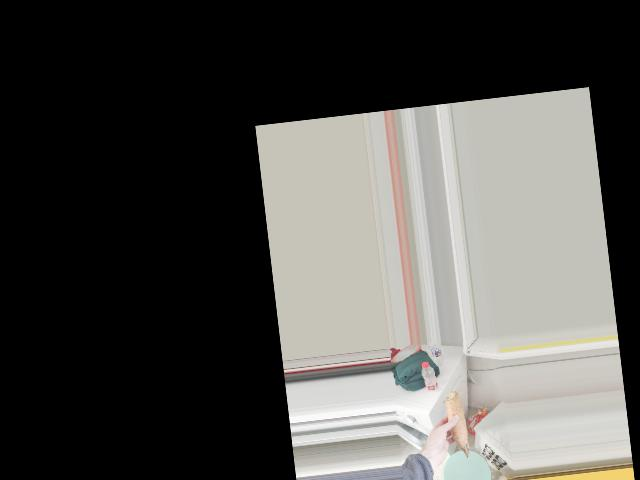sweet_potato: (441, 388, 470, 458)
